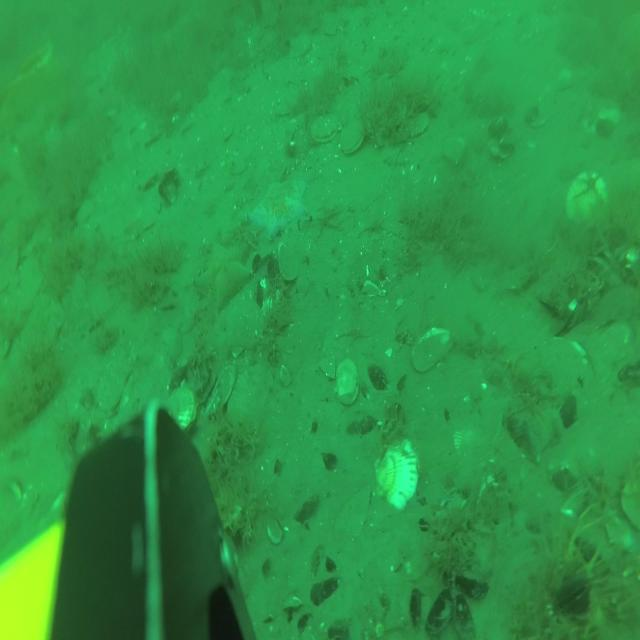scallop: (375, 436, 419, 511), (566, 173, 606, 223), (412, 326, 454, 372), (163, 386, 196, 440), (99, 359, 129, 414), (334, 358, 359, 407), (339, 116, 365, 157), (312, 114, 340, 144)
starfish: (193, 241, 253, 308), (249, 175, 308, 238)
